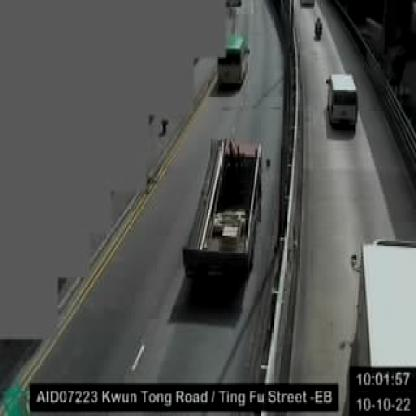Car: (327, 72, 358, 128)
Minibus: (219, 37, 249, 89)
Truck: (182, 138, 262, 280), (352, 238, 414, 388)
